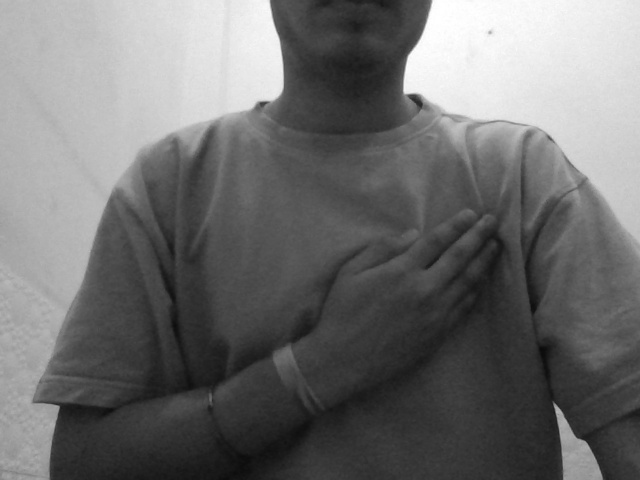Sorry: (283, 199, 542, 403)
